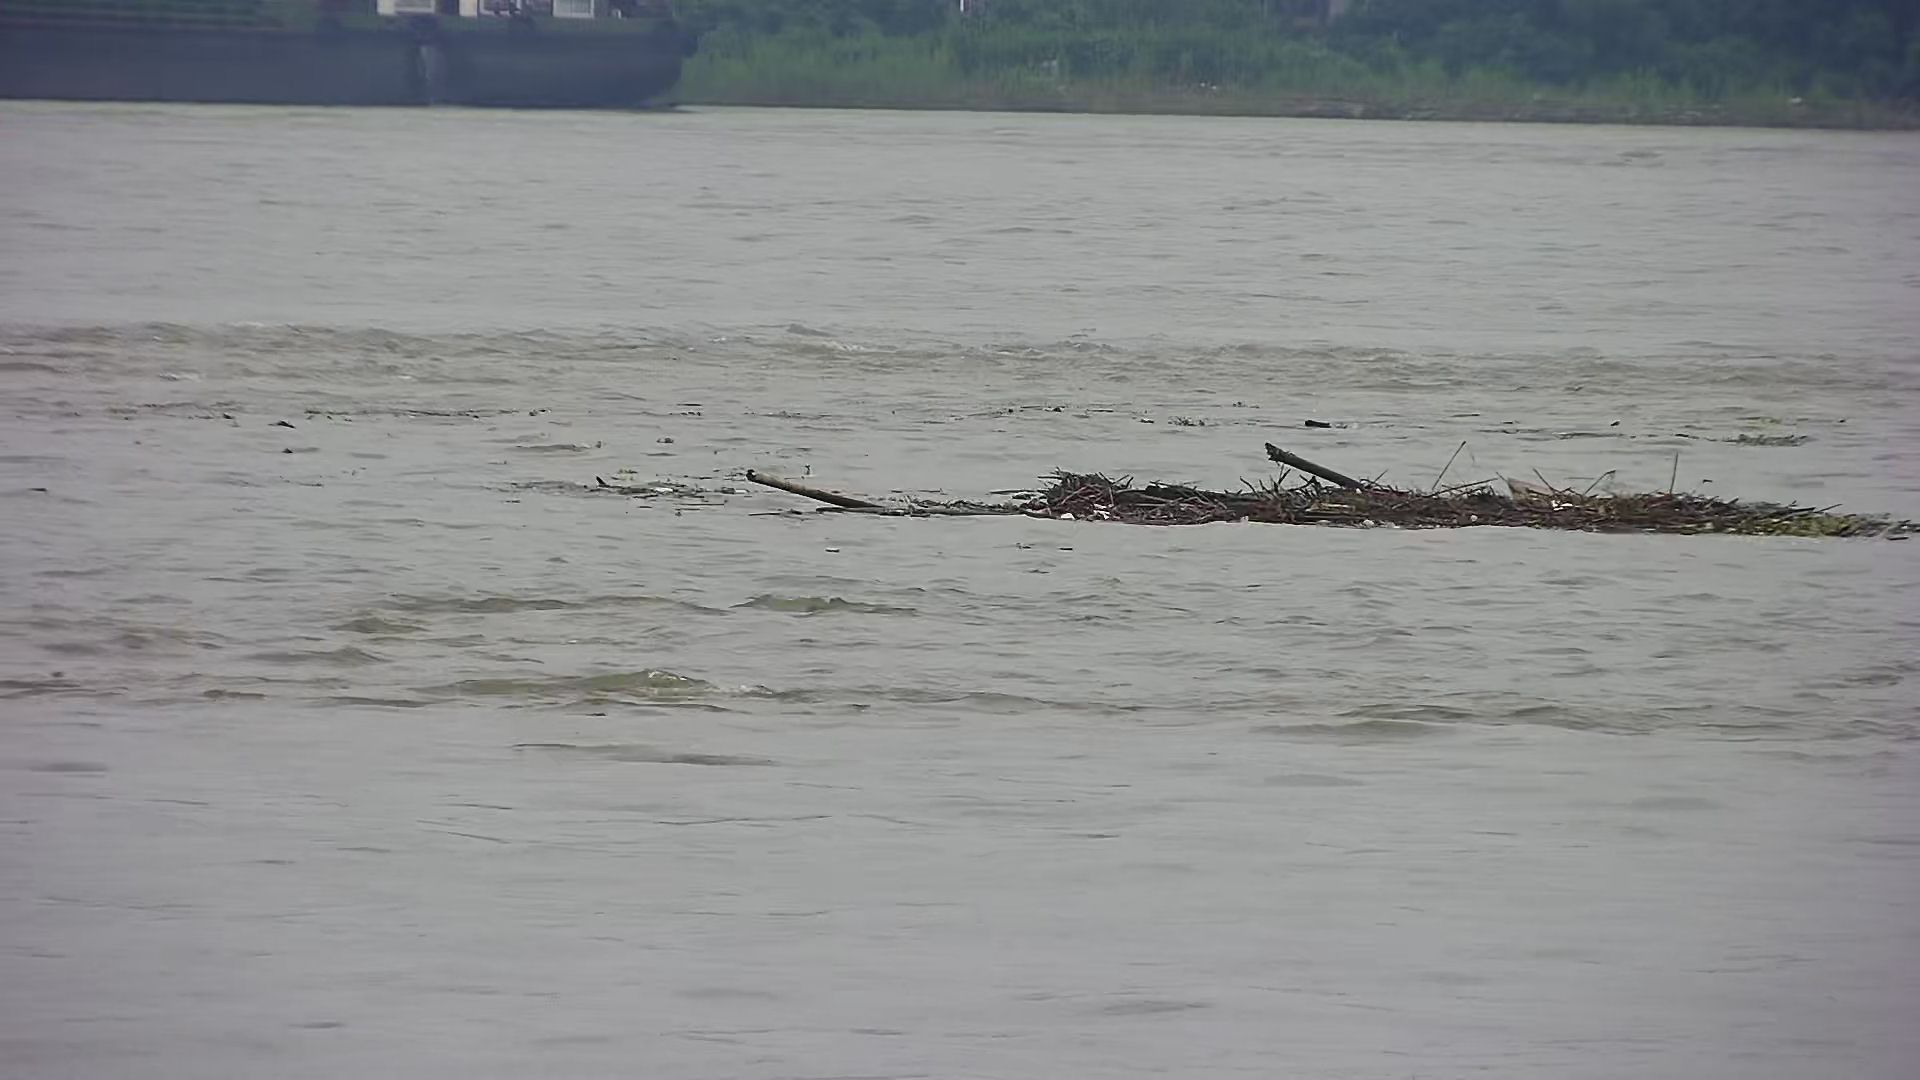grass: (715, 411, 1916, 560)
ship: (1, 3, 709, 111)
